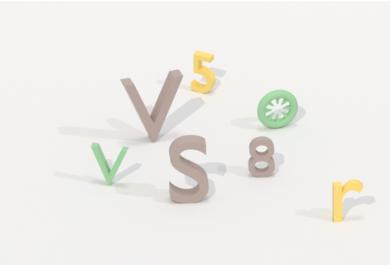0-TronLo: (253, 85, 303, 133)
5: (188, 47, 220, 97)
8: (244, 132, 278, 182)
S: (164, 130, 213, 210)
V: (115, 65, 185, 142), (88, 136, 133, 190)
r: (327, 176, 366, 226)
